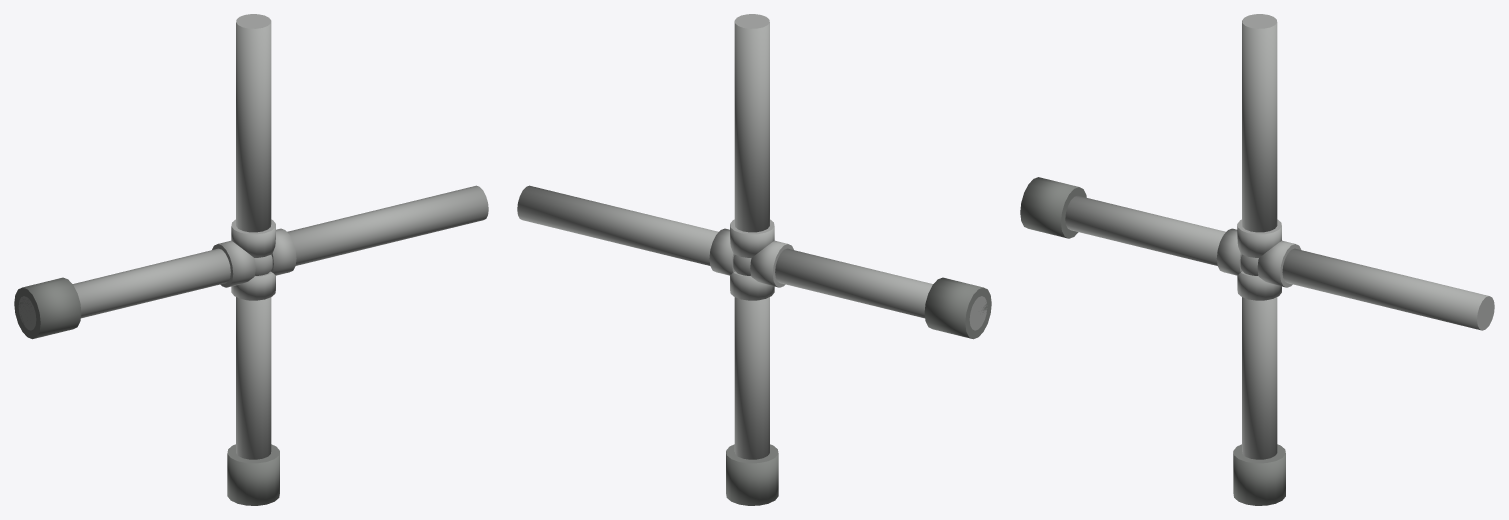
The model's file is pipe_m15_x9.obj.
3 renders of one model, left to right at view 1: azimuth 30°, elevation 25°; view 2: azimuth 150°, elevation 25°; view 3: azimuth 330°, elevation 25°, orthographic.
Visible parts, largest first — view 1: pipe4, pipe2, pipe8, pipe1, sleeve8, sleeve1, fitting_socket8, fitting_socket4, fitting_socket1, fitting_socket2; view 2: pipe4, pipe2, pipe8, pipe1, sleeve8, sleeve1, fitting_socket8, fitting_socket4, fitting_socket1, fitting_socket2; view 3: pipe4, pipe2, pipe1, pipe8, sleeve8, sleeve1, fitting_socket2, fitting_socket4, fitting_socket1, fitting_socket8.
Part boxes in pixels (x1=…): pipe4: x1=236, y1=14, x2=271, y2=232; pipe2: x1=287, y1=185, x2=488, y2=265; pipe8: x1=18, y1=248, x2=230, y2=330; pipe1: x1=236, y1=297, x2=271, y2=459; sleeve8: x1=14, y1=277, x2=81, y2=339; sleeve1: x1=227, y1=444, x2=279, y2=505; fitting_socket8: x1=212, y1=240, x2=255, y2=287; fitting_socket4: x1=231, y1=219, x2=275, y2=257; fitting_socket1: x1=231, y1=271, x2=275, y2=300; fitting_socket2: x1=271, y1=228, x2=296, y2=275; pipe4: x1=734, y1=14, x2=769, y2=232; pipe2: x1=517, y1=185, x2=718, y2=265; pipe8: x1=775, y1=248, x2=987, y2=330; pipe1: x1=734, y1=297, x2=769, y2=459; sleeve8: x1=924, y1=277, x2=991, y2=339; sleeve1: x1=726, y1=444, x2=778, y2=505; fitting_socket8: x1=750, y1=240, x2=793, y2=287; fitting_socket4: x1=730, y1=219, x2=774, y2=257; fitting_socket1: x1=730, y1=271, x2=774, y2=300; fitting_socket2: x1=709, y1=228, x2=734, y2=275; pipe4: x1=1242, y1=14, x2=1277, y2=232; pipe2: x1=1282, y1=248, x2=1494, y2=330; pipe1: x1=1242, y1=297, x2=1277, y2=459; pipe8: x1=1065, y1=195, x2=1225, y2=265; sleeve8: x1=1020, y1=177, x2=1086, y2=238; sleeve1: x1=1233, y1=444, x2=1285, y2=505; fitting_socket2: x1=1257, y1=240, x2=1301, y2=287; fitting_socket4: x1=1237, y1=219, x2=1281, y2=257; fitting_socket1: x1=1237, y1=271, x2=1281, y2=300; fitting_socket8: x1=1216, y1=228, x2=1242, y2=275.
Bounding box in the file's own units: 1 × 1 × 0.1014.
Materials: 2 (2 with a texture image).
